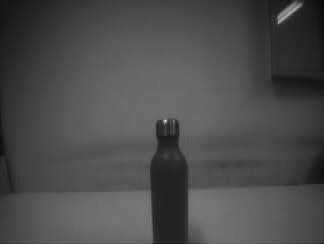Bottle: (149, 117, 189, 244)
